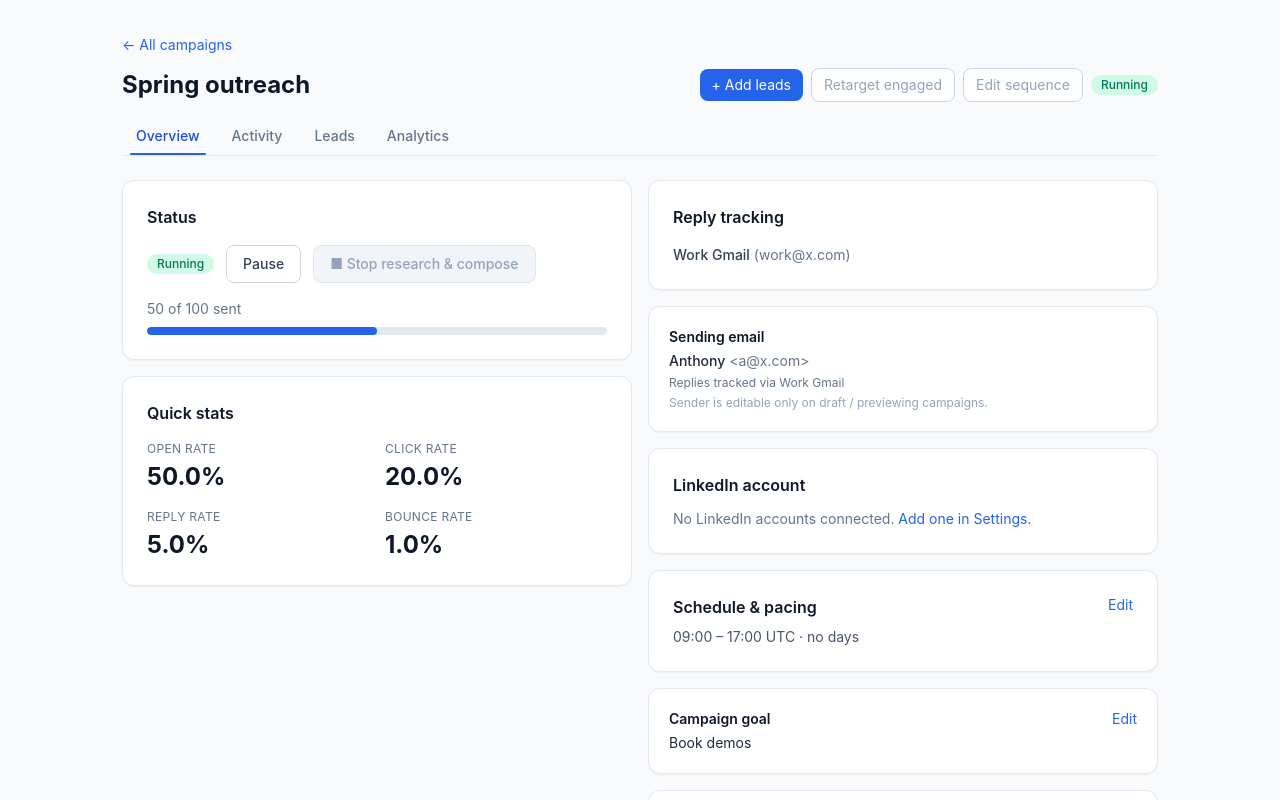
Test: CampaignDetail › Switching to Leads tab renders the LeadTable
Click the tab with test id "tab-leads" at {"x": 335, "y": 137}, box [300, 118, 369, 156]
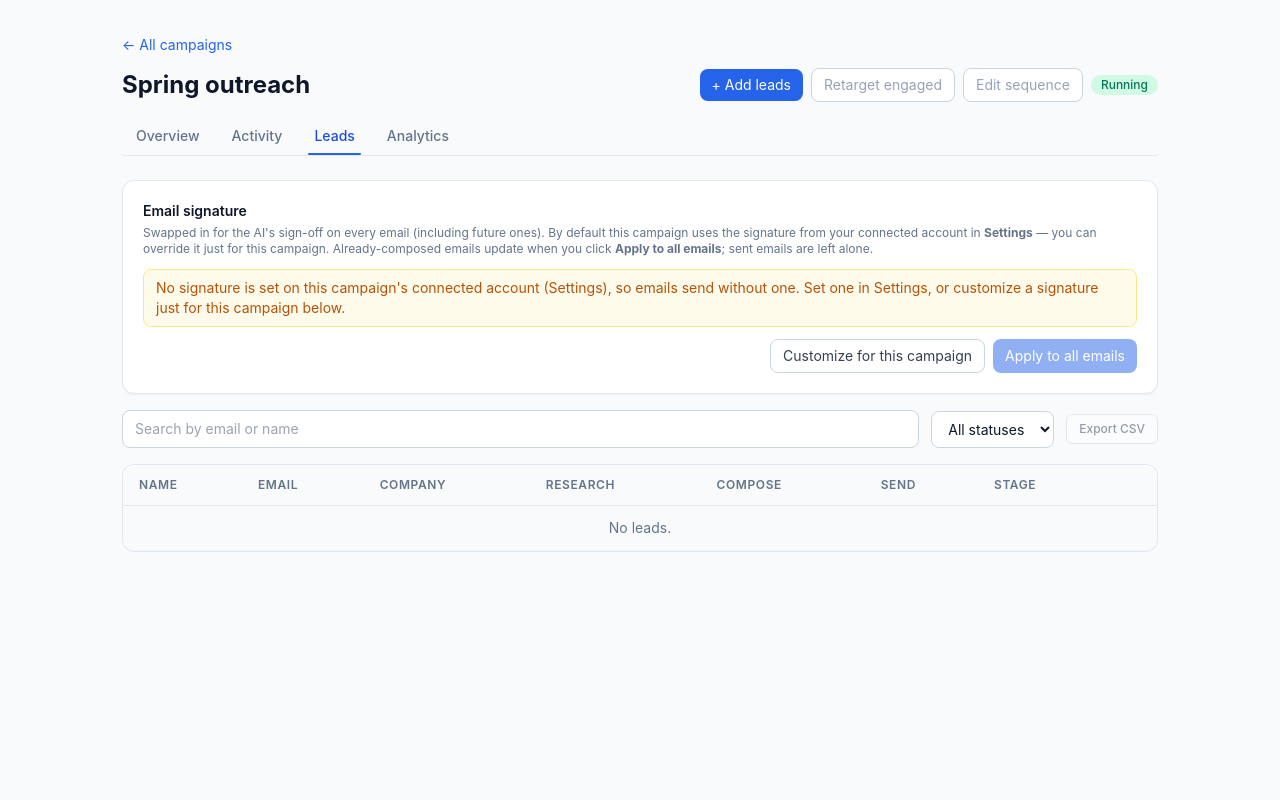
Check: the element with test id "leads-tab" is shown, box [122, 180, 1158, 552]
Check: the element with test id "lead-table" is shown, box [122, 410, 1158, 552]
